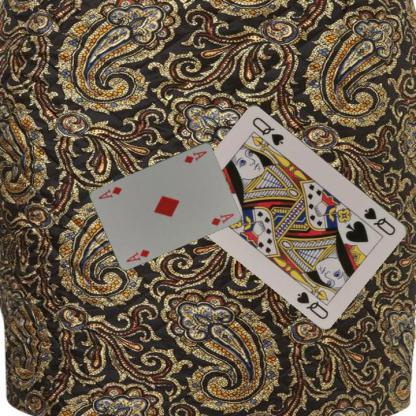Ad: (181, 148, 208, 165), (124, 247, 150, 263)
Qs: (360, 204, 398, 237)
